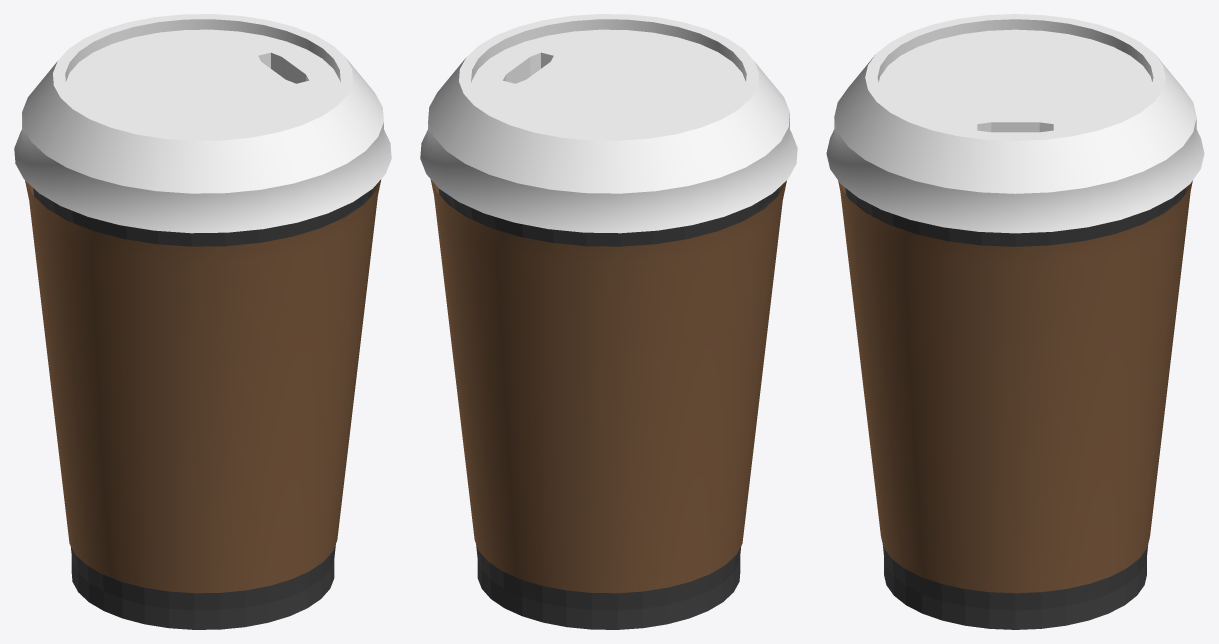
File: coffee1.glb
3 renders of one model, left to right at view 1: azimuth 30°, elevation 25°; view 2: azimuth 150°, elevation 25°; view 3: azimuth 270°, elevation 25°, orthographic.
Parts seen in each view (by area): view 1: Circle.005, Circle.004, Circle.003; view 2: Circle.005, Circle.004, Circle.003; view 3: Circle.005, Circle.004, Circle.003.
Boxes of the visible parts, box(x1,y1,x2,y2) form: Circle.005: box(25, 179, 381, 593); Circle.004: box(14, 14, 391, 233); Circle.003: box(33, 188, 373, 629); Circle.005: box(430, 179, 786, 593); Circle.004: box(420, 14, 797, 233); Circle.003: box(438, 188, 778, 629); Circle.005: box(838, 180, 1192, 593); Circle.004: box(826, 14, 1204, 233); Circle.003: box(845, 188, 1185, 629).
Size of the model in its own units: 3.51 by 5.09 by 3.51.
